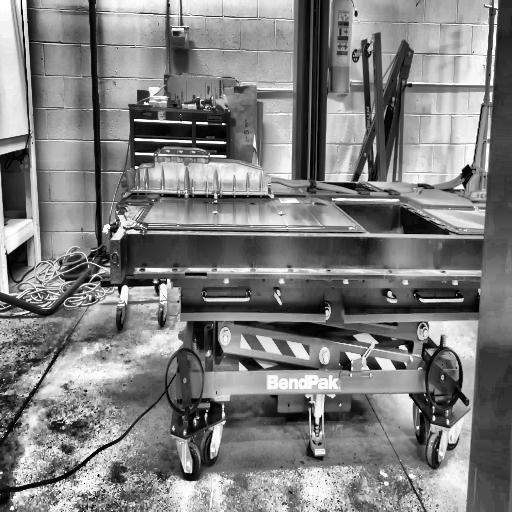b_casing: (104, 145, 492, 332)
